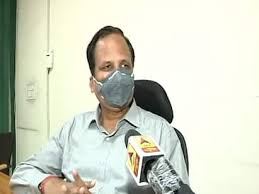mask: (84, 34, 140, 109)
